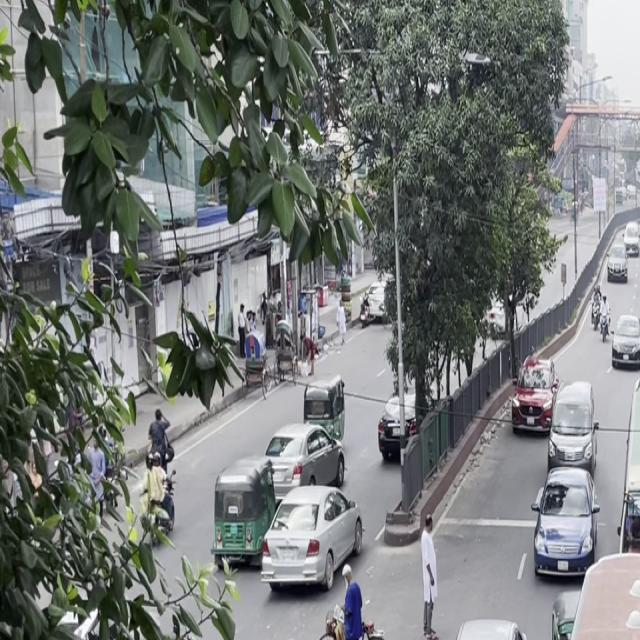bicycle: (308, 575, 400, 640)
bus: (483, 547, 640, 640)
car: (259, 477, 367, 601), (526, 456, 603, 590), (544, 381, 599, 480), (507, 353, 562, 441), (427, 612, 539, 640), (608, 305, 640, 376), (605, 244, 628, 284)
motorbike: (591, 286, 607, 340)
rickshaw: (206, 453, 277, 574)
